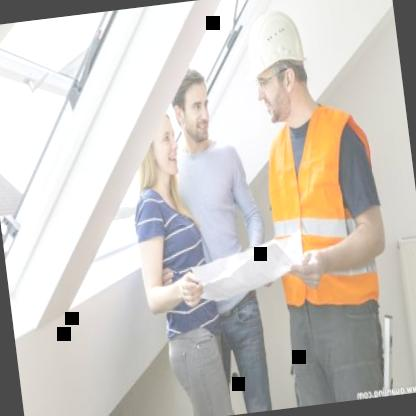head: (167, 63, 216, 152), (134, 110, 182, 190)
helmet: (233, 0, 321, 136)
